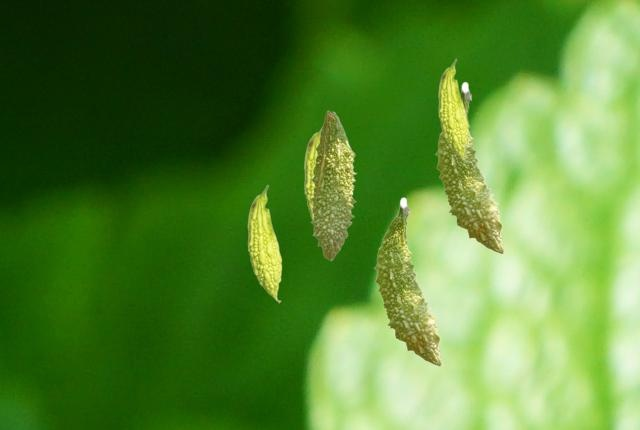ampalaya: (434, 81, 505, 254), (373, 197, 443, 367), (309, 110, 357, 261), (303, 128, 341, 250), (247, 184, 282, 303), (438, 58, 469, 163)
